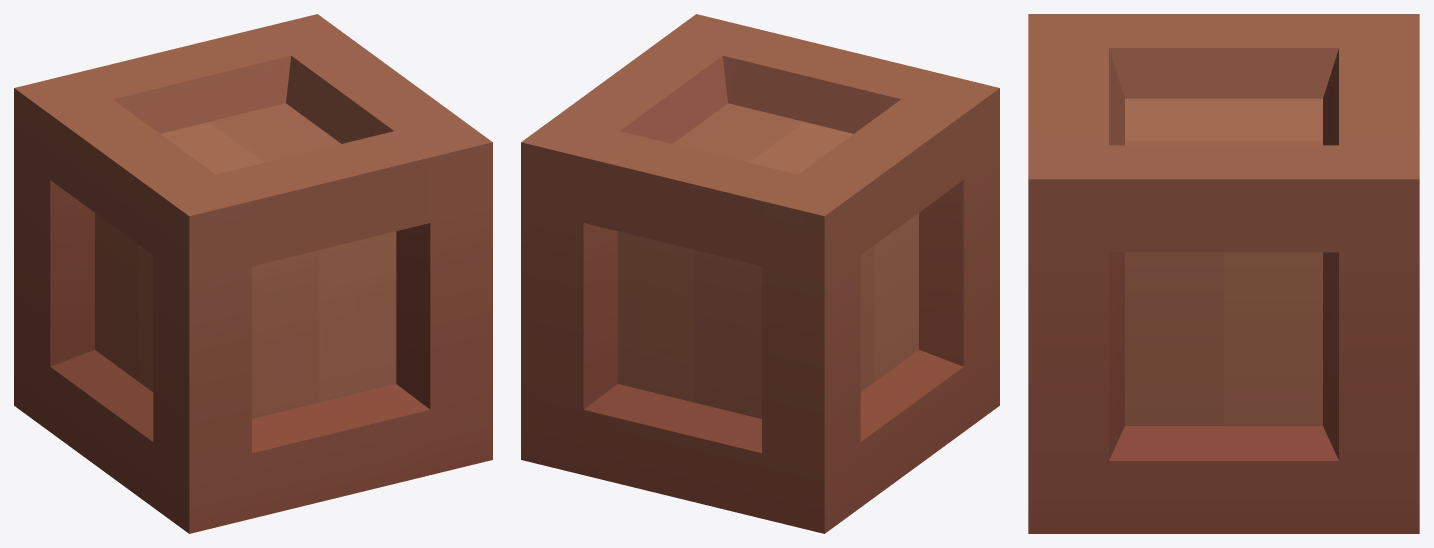
The model's file is crate_A_small.glb.
The picture shows the model from 3 angles, left to right: view 1: azimuth 30°, elevation 25°; view 2: azimuth 150°, elevation 25°; view 3: azimuth 270°, elevation 25°; orthographic projection. The views are drawn at different scales.
Visible parts, largest first — view 1: crate_A_small; view 2: crate_A_small; view 3: crate_A_small.
Part boxes in pixels (bbox=[...]): crate_A_small: bbox=[14, 14, 492, 533]; crate_A_small: bbox=[521, 14, 999, 533]; crate_A_small: bbox=[1028, 14, 1419, 533].
Bounding box in the file's own units: 0.14 × 0.14 × 0.14.
1 material, 1 textured.
